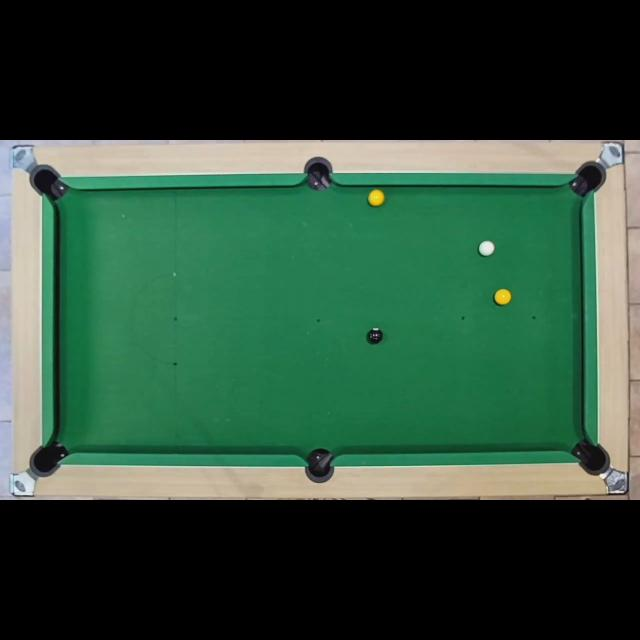Ball: (494, 289, 512, 305), (368, 189, 386, 205), (478, 240, 494, 256), (368, 328, 382, 342)
